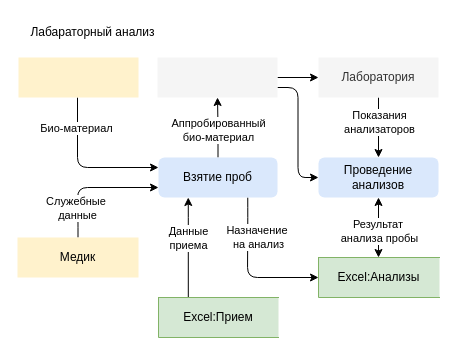
Some shapes in this 457 by 355 pixel diagram are drawn without their labels. Here are the shapes that lost their labels. From the top down, the centre of each, then its label:
At point (78, 77): "Пациент".
At point (217, 77): "Хранилище био-материала".
